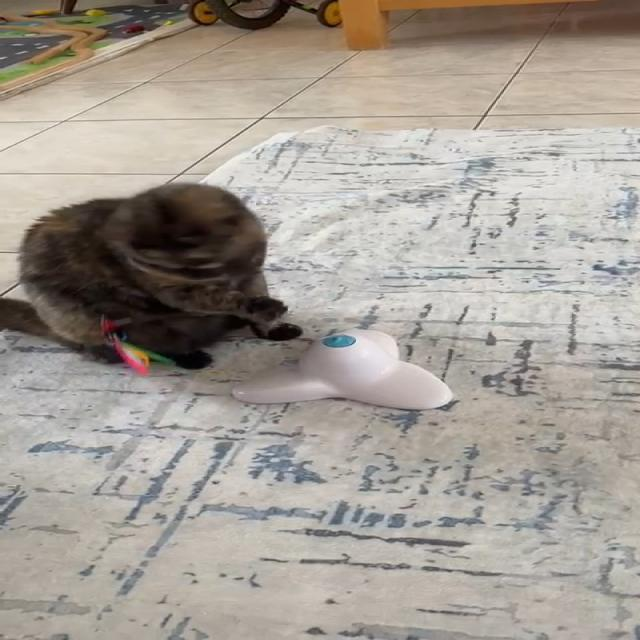authorized: (0, 181, 303, 369)
